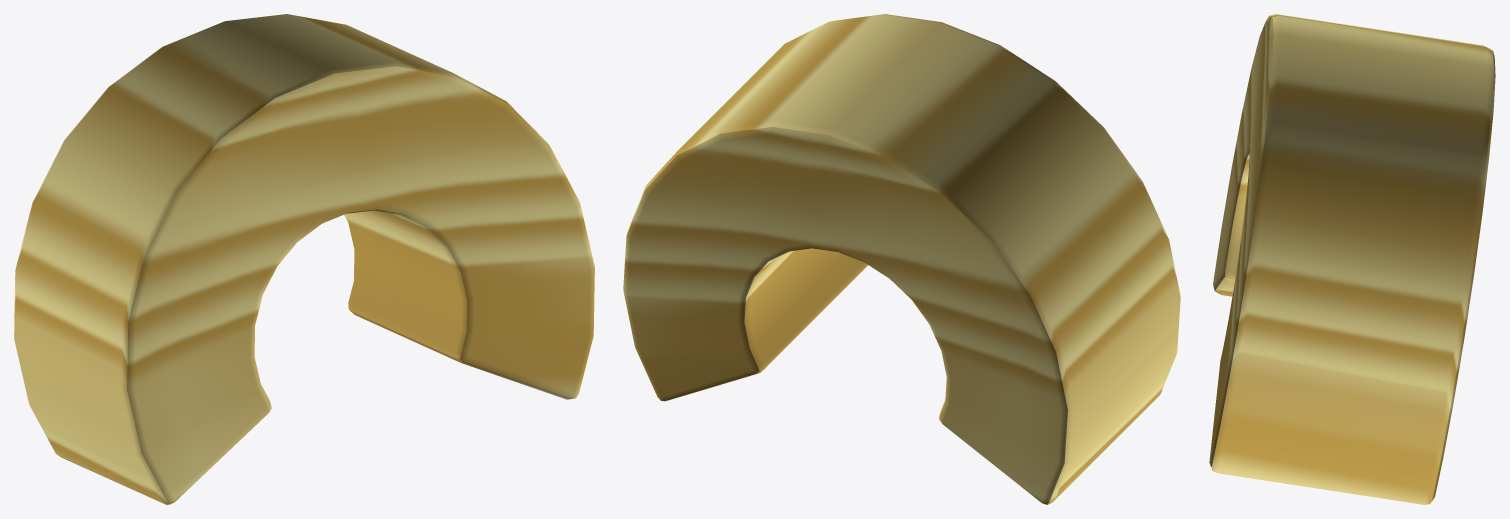
Rendered from left hand.obj.
The picture shows the model from 3 angles, left to right: view 1: azimuth 30°, elevation 25°; view 2: azimuth 150°, elevation 25°; view 3: azimuth 270°, elevation 25°; orthographic projection. The views are drawn at different scales.
Visible parts, largest first — view 1: Blake_left_hand_left_wrist_left_wrist; view 2: Blake_left_hand_left_wrist_left_wrist; view 3: Blake_left_hand_left_wrist_left_wrist.
Part boxes in pixels (left/top/right/bottom): Blake_left_hand_left_wrist_left_wrist: left=14, top=14, right=594, bottom=504; Blake_left_hand_left_wrist_left_wrist: left=623, top=14, right=1180, bottom=504; Blake_left_hand_left_wrist_left_wrist: left=1209, top=14, right=1495, bottom=504.
Size of the model in its own units: 0.8087 by 0.649 by 0.4436.
